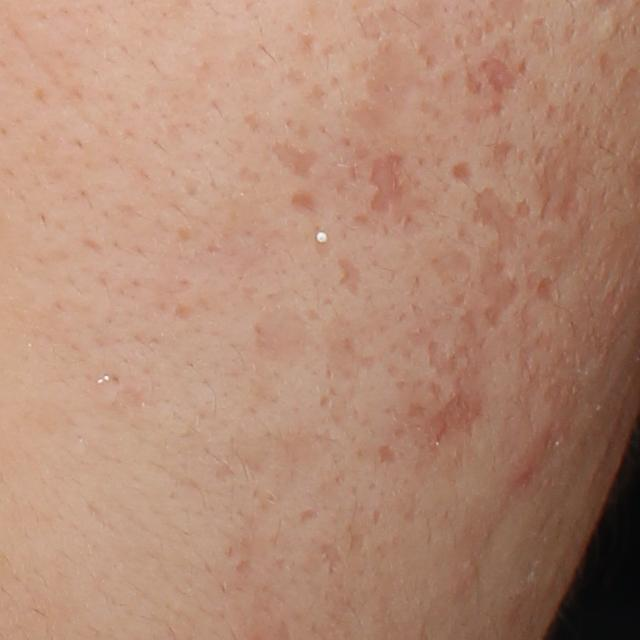atrophic_scar: (409, 306, 491, 448), (470, 186, 533, 328), (342, 35, 426, 127), (540, 126, 601, 225), (533, 229, 585, 304), (365, 149, 412, 216), (266, 139, 318, 180), (428, 245, 471, 285), (478, 52, 517, 94), (486, 139, 521, 175), (531, 13, 558, 56), (343, 521, 369, 561), (337, 260, 364, 298), (319, 541, 346, 576), (293, 31, 324, 58), (452, 161, 475, 189), (292, 189, 316, 214), (597, 49, 616, 78), (378, 443, 399, 465), (236, 557, 256, 579), (406, 402, 429, 420), (300, 507, 321, 525), (449, 289, 467, 307), (371, 508, 382, 527)
